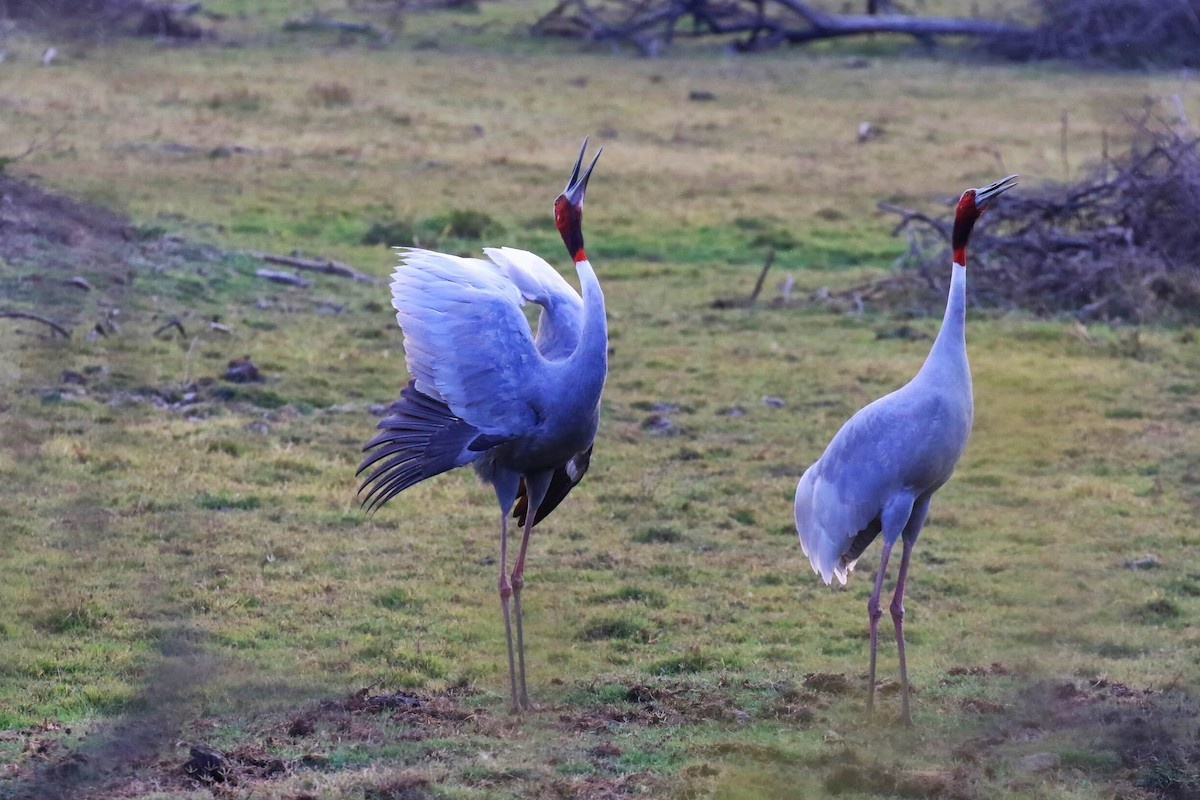crane: (378, 129, 614, 721), (785, 163, 1029, 712)
